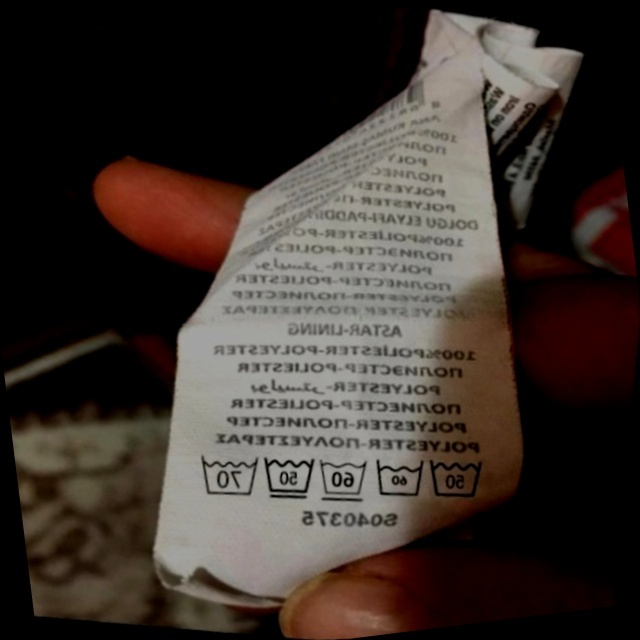50C: (416, 441, 496, 513), (251, 443, 324, 512)
60C: (306, 445, 376, 512), (363, 446, 433, 511)
70C: (185, 441, 266, 509)
